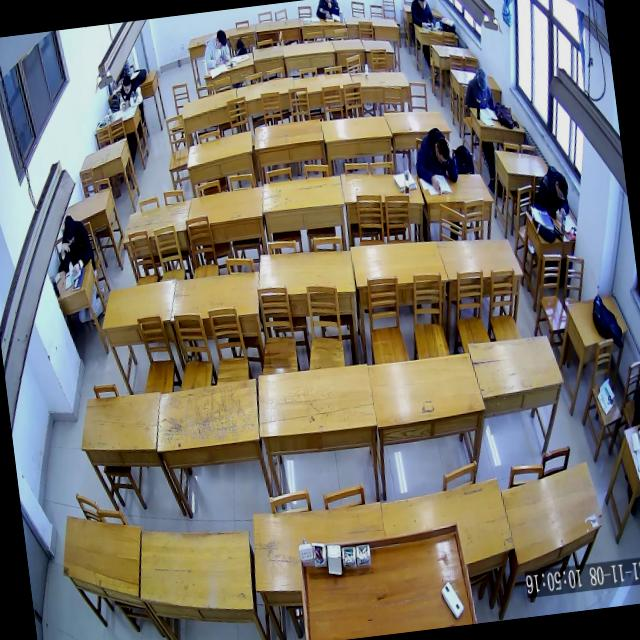down: (60, 214, 78, 248), (432, 136, 452, 166), (552, 171, 570, 204), (474, 66, 489, 92), (214, 27, 228, 51), (120, 74, 132, 96), (422, 19, 434, 31), (415, 0, 428, 11)
sit: (410, 123, 461, 197), (53, 210, 97, 278), (531, 162, 573, 226), (460, 64, 495, 112), (199, 26, 233, 72), (114, 71, 144, 112), (407, 0, 436, 31)
